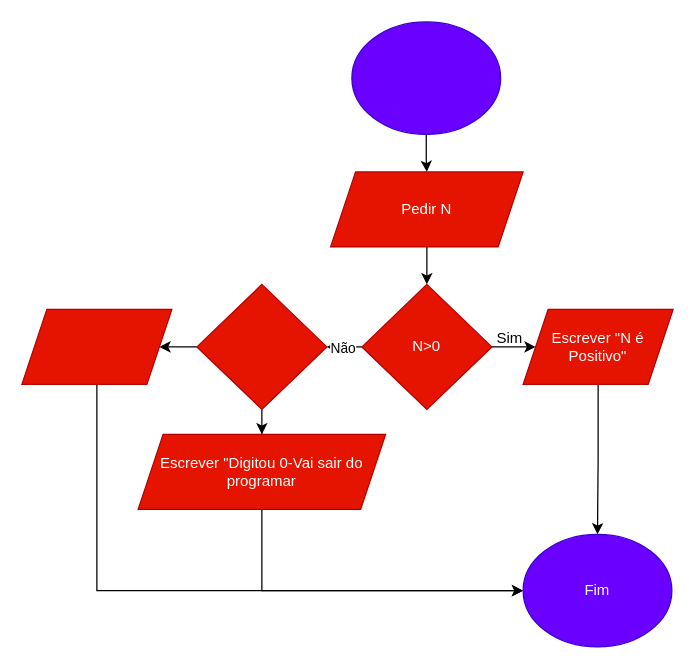
Image size: 695x669. Some labels were removed from this diagram. The shapes that lost their labels are listed below. From the top down, each one's box as (x1, y1, x2, y2) in pixels, then its label:
(351, 21, 501, 134): Inicio
(21, 308, 172, 384): Escrever "N é Negativo"
(196, 283, 327, 409): N=0
